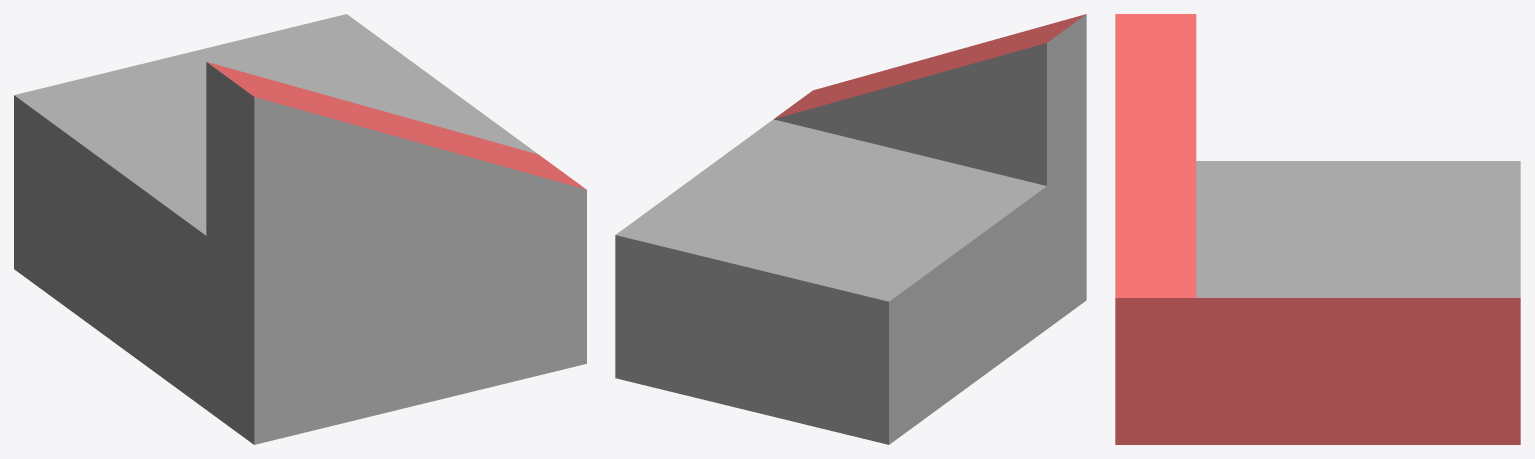
The picture shows the model from 3 angles, left to right: view 1: azimuth 30°, elevation 25°; view 2: azimuth 150°, elevation 25°; view 3: azimuth 270°, elevation 25°; orthographic projection. The views are drawn at different scales.
Parts seen in each view (by area): view 1: 7-11.SLDPRT; view 2: 7-11.SLDPRT; view 3: 7-11.SLDPRT.
Part boxes in pixels (bbox=[...]): 7-11.SLDPRT: bbox=[14, 14, 586, 444]; 7-11.SLDPRT: bbox=[615, 14, 1086, 444]; 7-11.SLDPRT: bbox=[1115, 14, 1520, 444].
Size of the model in its own units: 0.04 by 0.04 by 0.05.
